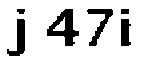4: (44, 9, 81, 49)
7: (86, 6, 113, 50)
i: (116, 6, 134, 52)
j: (1, 6, 30, 59)
